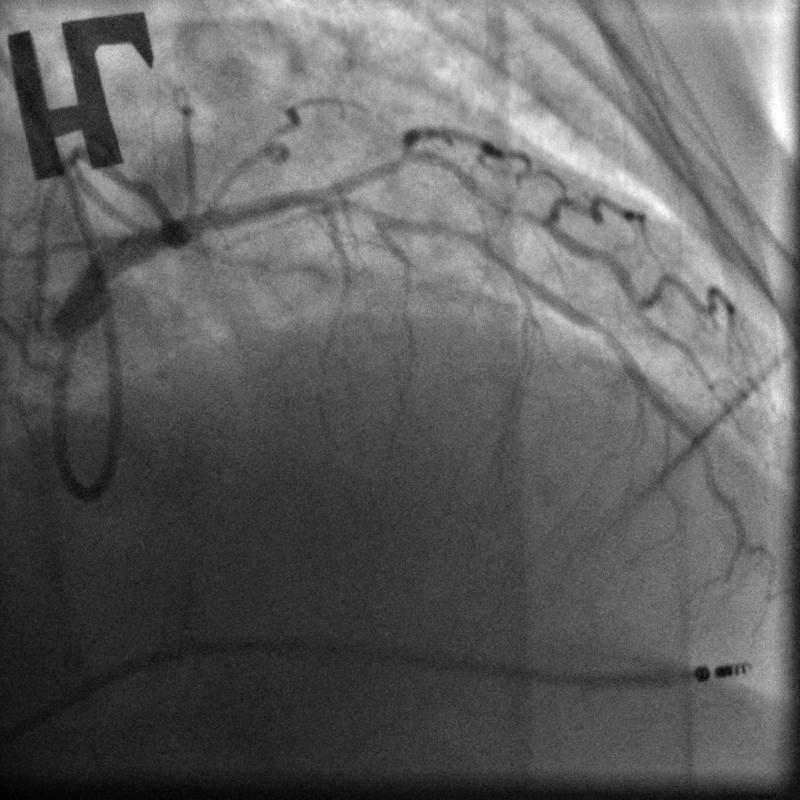Stenosis: (417, 210, 484, 256)
